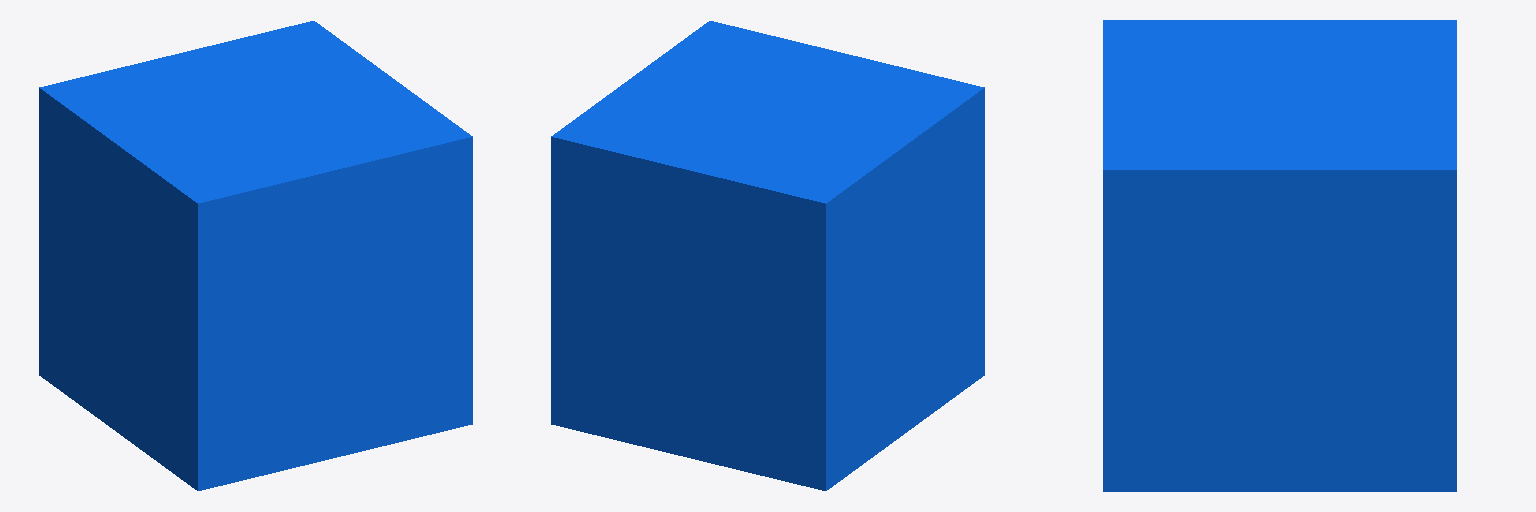
URDF robot description (ideal_robot):
<?xml version="1.0"?>
<robot name="ideal_robot">
  <link name="base_link">
    <inertial>
      <mass value="1"/>
      <inertia ixx="0.00667" ixy="0" ixz="0" iyy="0.00667" iyz="0" izz="0.00667"/>
    </inertial>
    <visual>
      <geometry><box size="0.2 0.2 0.2"/></geometry>
      <material name="ideal_blue"><color rgba="0.1 0.5 1 1"/></material>
    </visual>
  </link>
  <gazebo reference="base_link">
    <gravity>false</gravity>
    <material>Gazebo/Blue</material>
  </gazebo>
  <gazebo>
    <plugin name="ideal_trajectory_control" filename="libideal_trajectory_control.so"/>
  </gazebo>
</robot>

--- What the picture shows (computed from the rendered views, not written in the file) ---
Views: 3 orthographic renders of the robot side by side, from view 1: azimuth 30°, elevation 25°; view 2: azimuth 150°, elevation 25°; view 3: azimuth 270°, elevation 25°.
Model ideal_robot with 1 links and 0 joints (none), rooted at base_link, posed all joints at 0.
Visible links, largest first — view 1: base_link; view 2: base_link; view 3: base_link.
Boxes of the visible links, left/top/right/bottom form: base_link: left=39, top=21, right=472, bottom=490; base_link: left=551, top=21, right=984, bottom=490; base_link: left=1103, top=20, right=1456, bottom=491.
Bounding box of the posed robot: 0.2 × 0.2 × 0.2 m (x, y, z).
Geometry: primitives only (box / cylinder / sphere), no mesh files.
